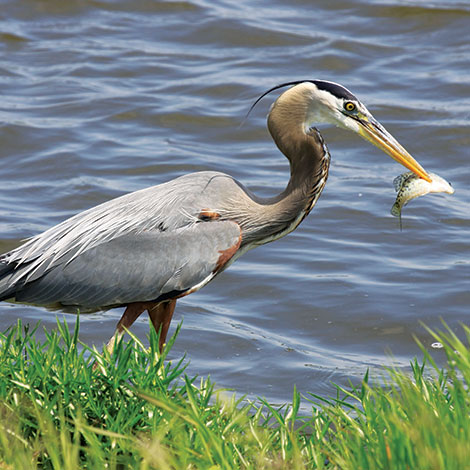heron: (1, 73, 428, 363)
